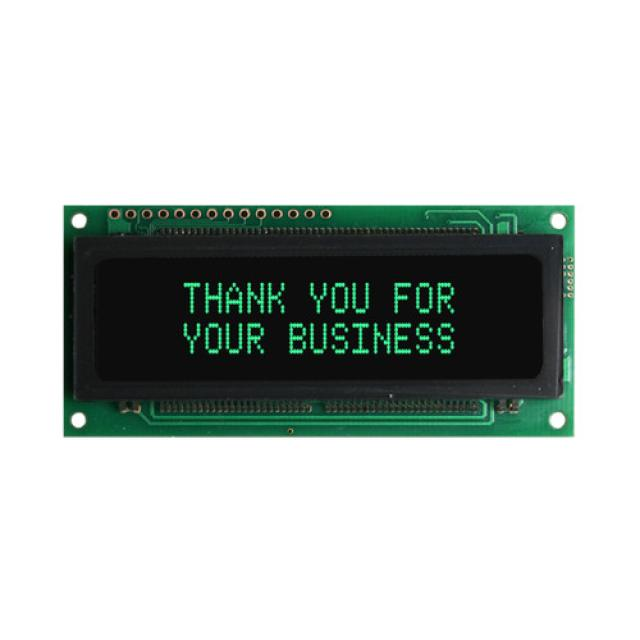Display: (51, 193, 582, 453)
